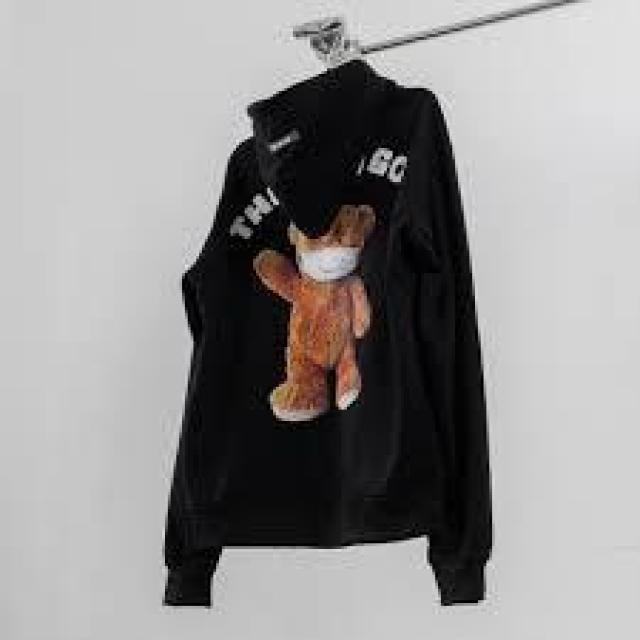sweater: (188, 85, 498, 618)
